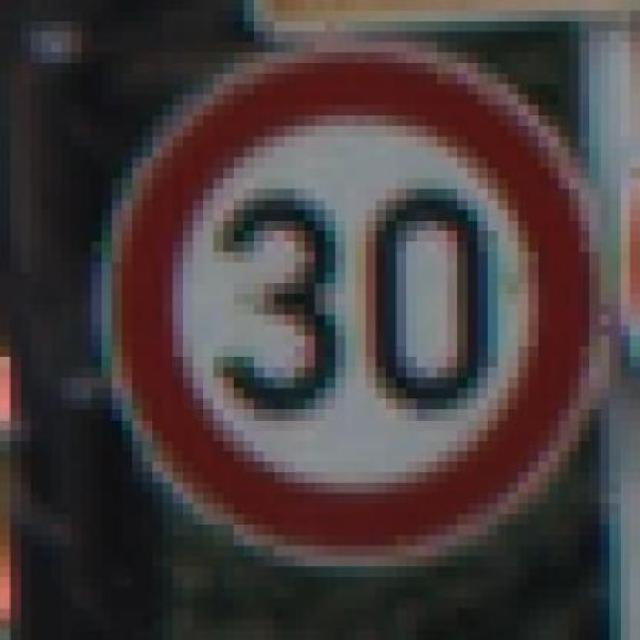Speed Limit 30 KMPh: (72, 41, 630, 577)
